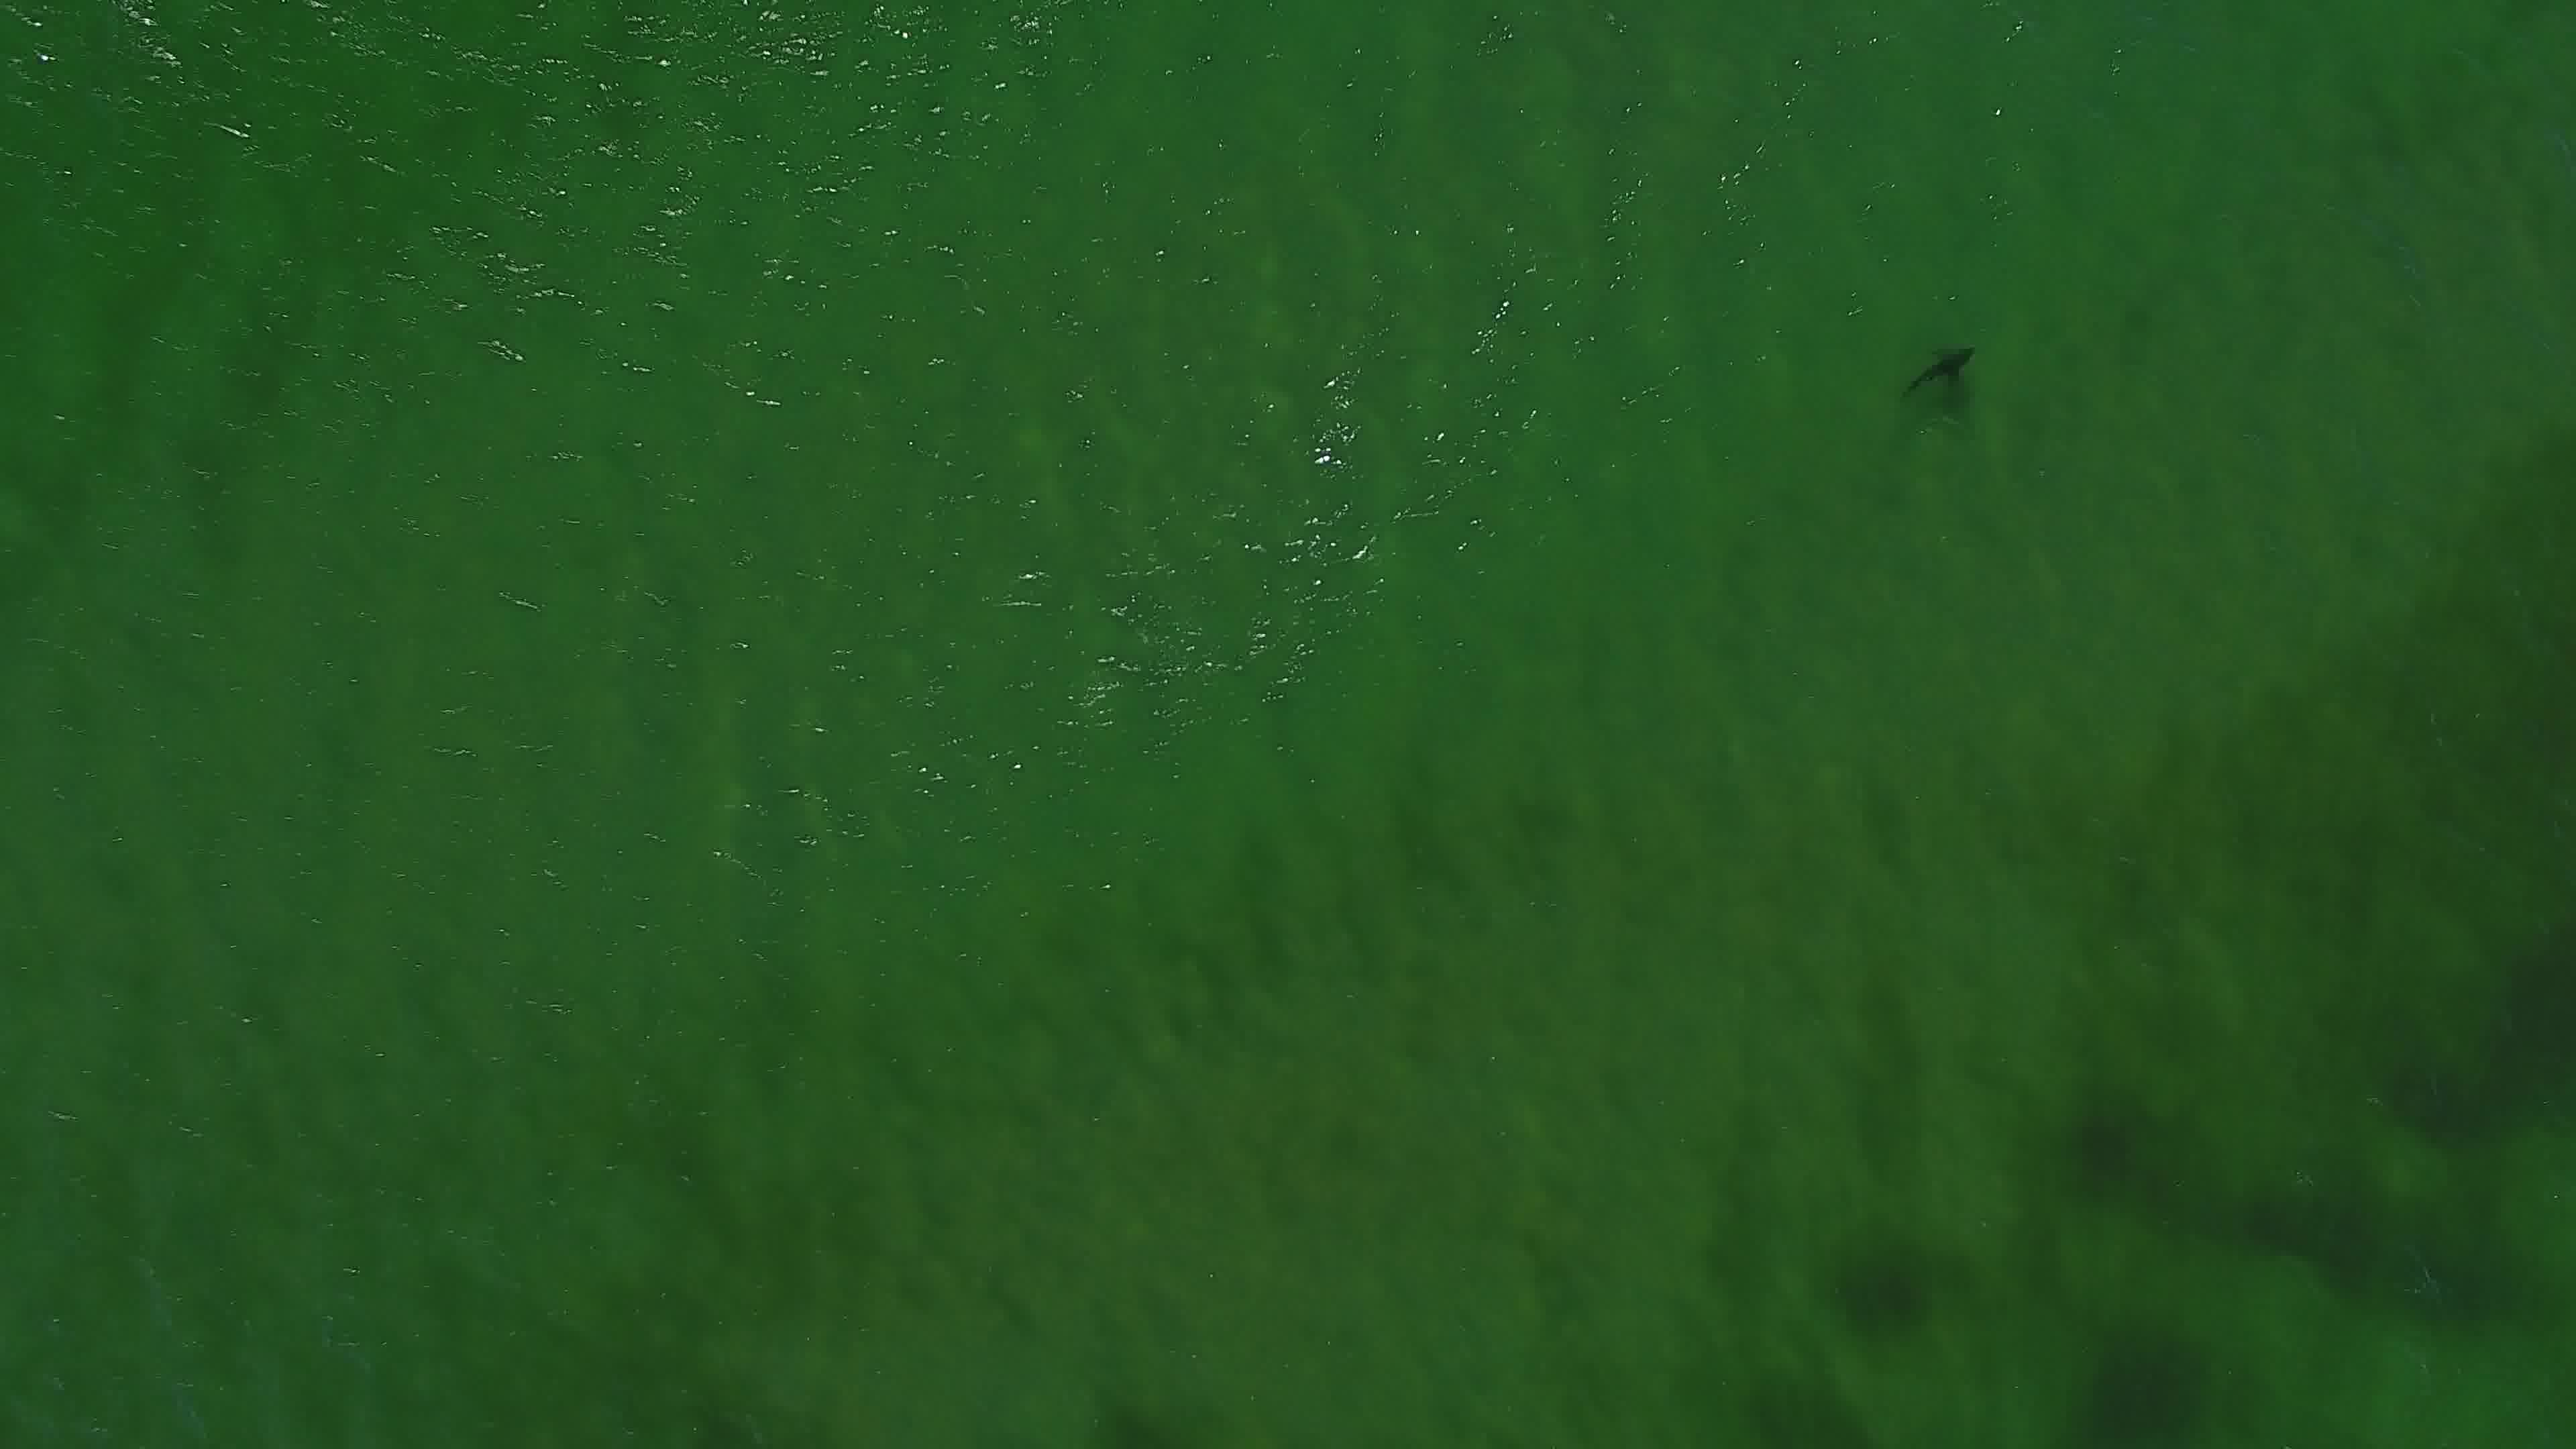shark: (1895, 333, 1980, 416)
